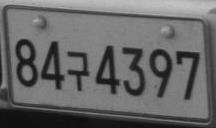3: (121, 46, 146, 96)
4: (40, 40, 65, 90), (95, 45, 120, 94)
7: (175, 50, 200, 100)
8: (15, 37, 38, 87)
9: (148, 47, 173, 98)
구: (66, 50, 89, 91)
